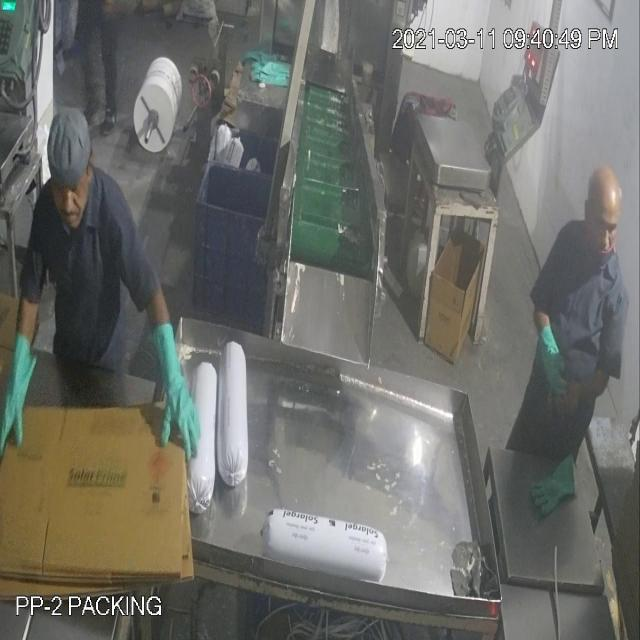Gloves: (21, 70, 582, 402)
